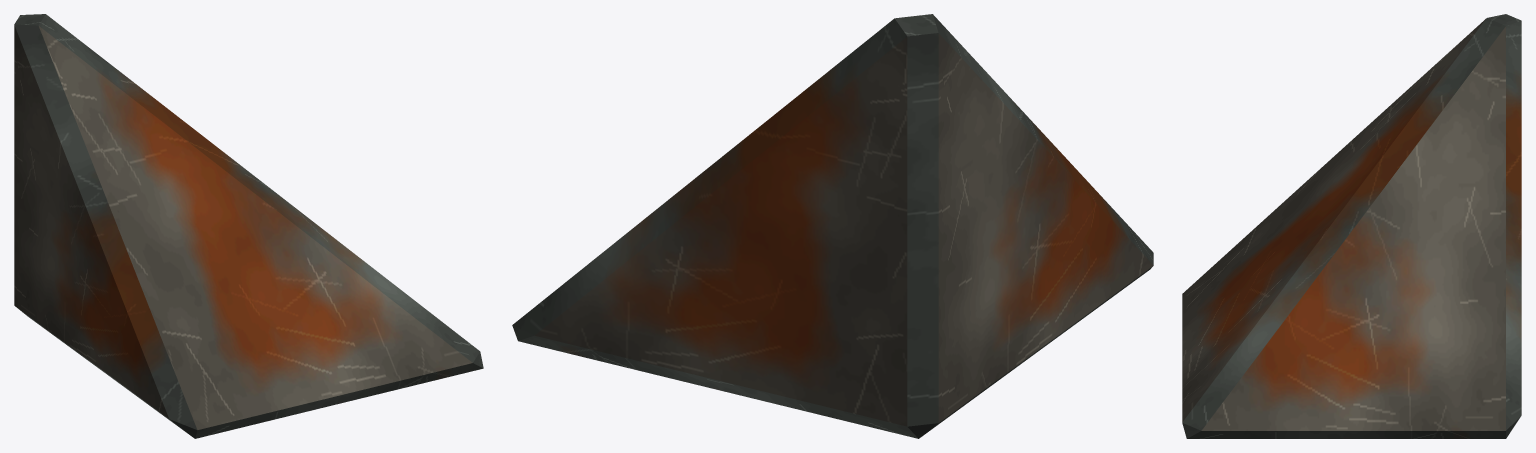
The model's file is R4B_CornerWedge_LOD1.glb.
The picture shows the model from 3 angles, left to right: view 1: azimuth 30°, elevation 25°; view 2: azimuth 150°, elevation 25°; view 3: azimuth 270°, elevation 25°; orthographic projection. The views are drawn at different scales.
Parts seen in each view (by area): view 1: R4B_CornerWedge_LOD1; view 2: R4B_CornerWedge_LOD1; view 3: R4B_CornerWedge_LOD1.
Part boxes in pixels (x1,y1,x2,y2): R4B_CornerWedge_LOD1: (14, 14, 483, 438); R4B_CornerWedge_LOD1: (512, 14, 1153, 438); R4B_CornerWedge_LOD1: (1182, 14, 1521, 438).
Size of the model in its own units: 0.5035 by 0.4681 by 0.5035.
2 materials, 2 textured.
